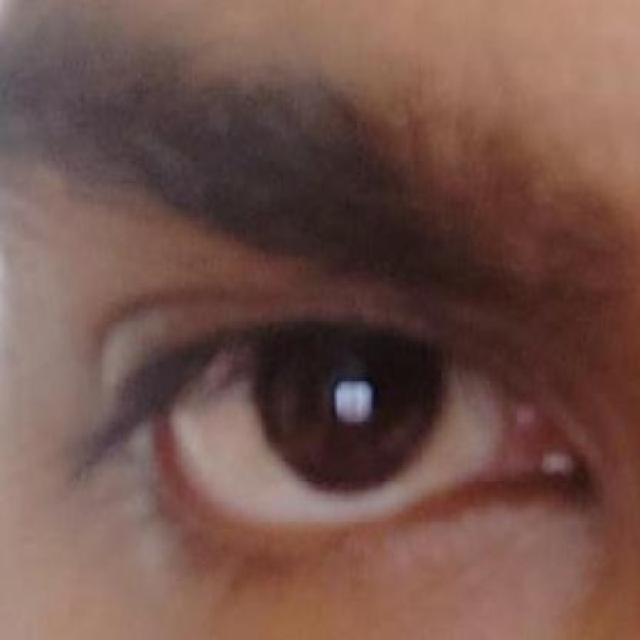awake: (164, 324, 584, 531)
